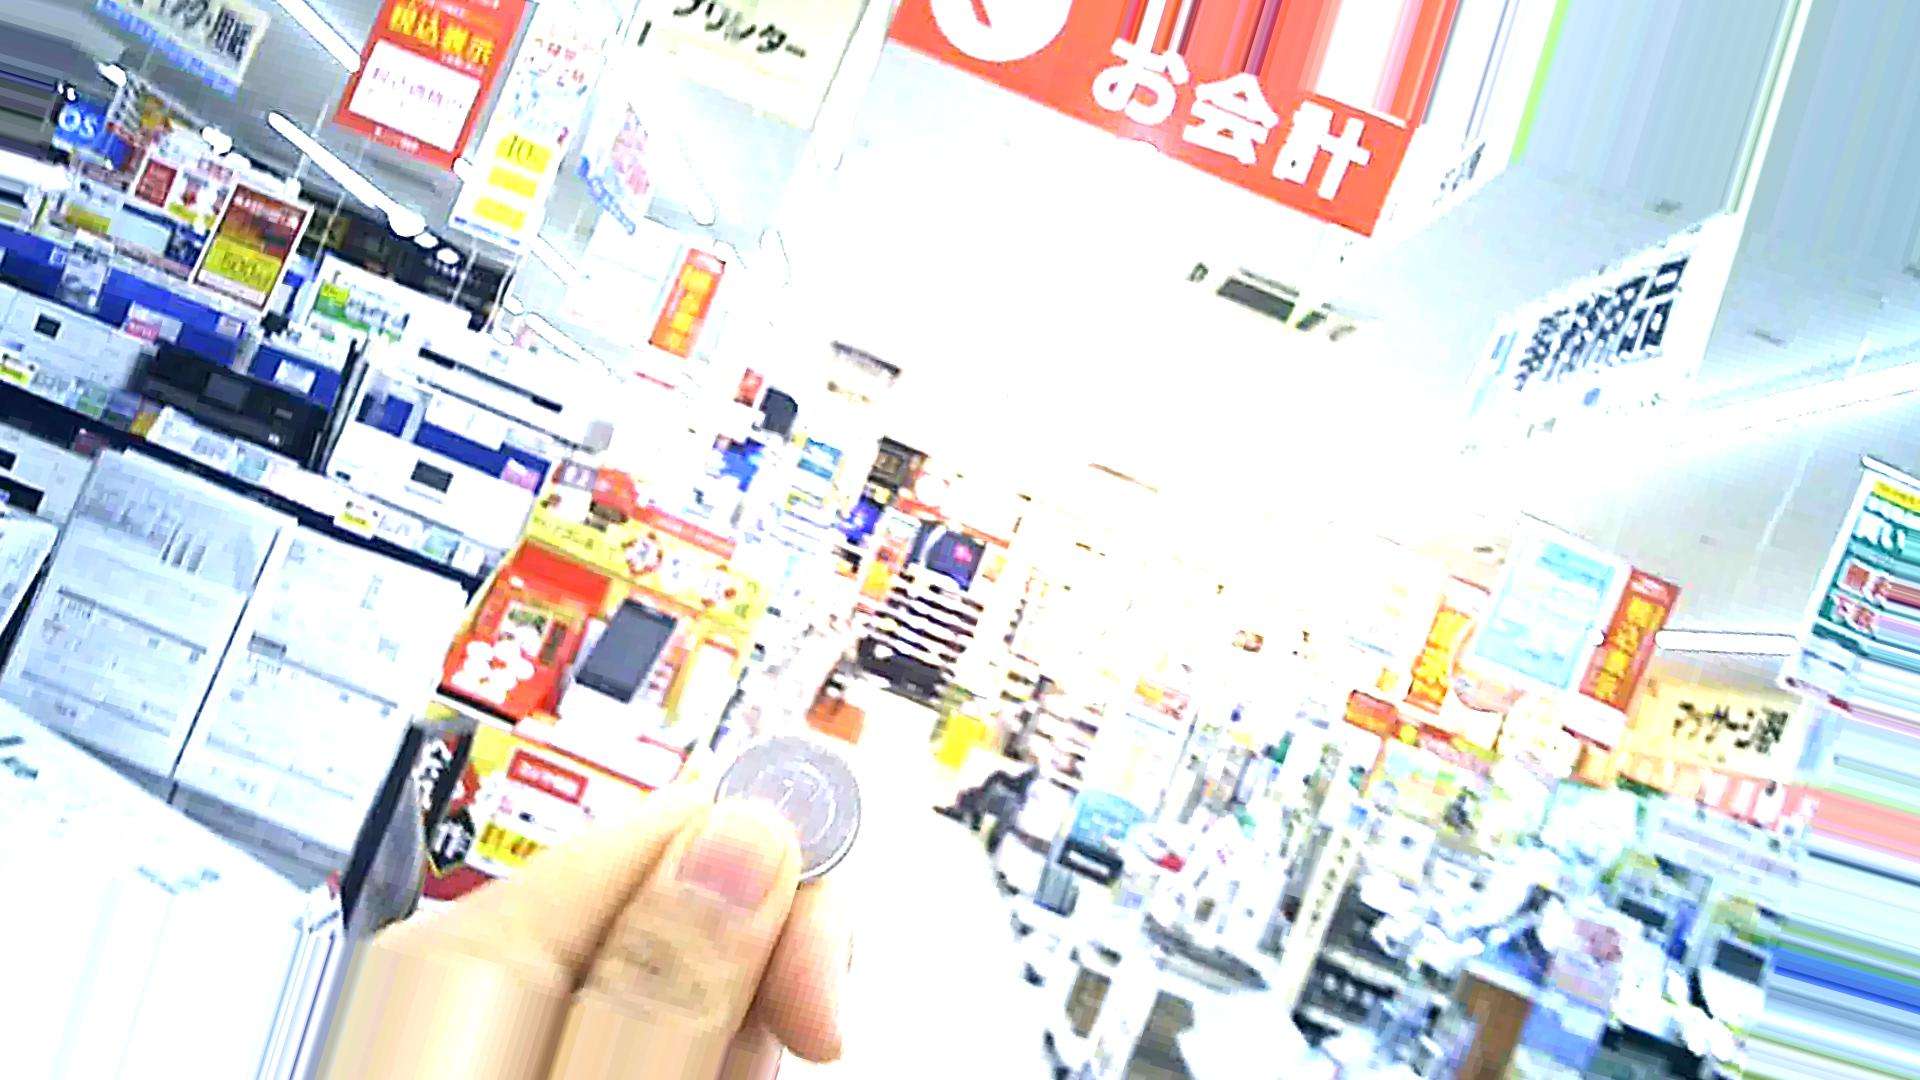1 Yen: (709, 731, 872, 887)
